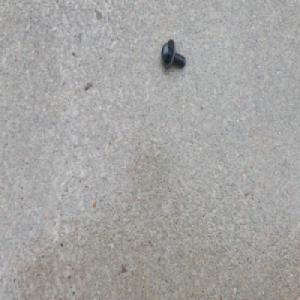BoltWasher: (159, 37, 185, 70)
